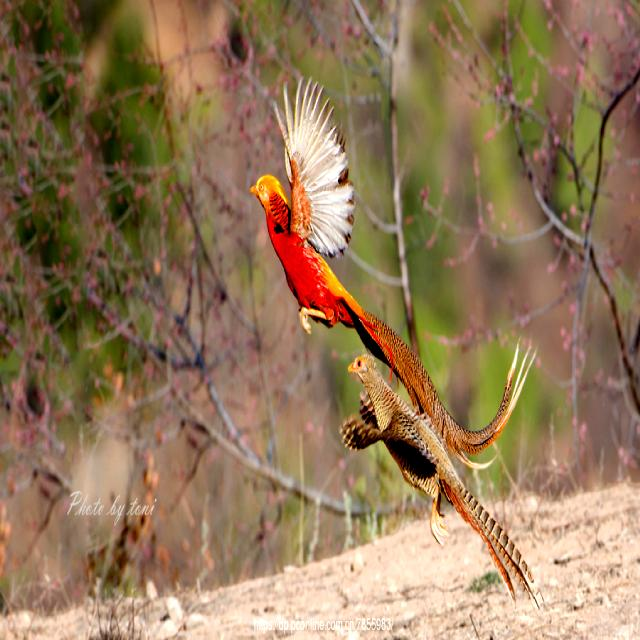Chrysolophus pictus feather: (343, 302, 523, 465)
